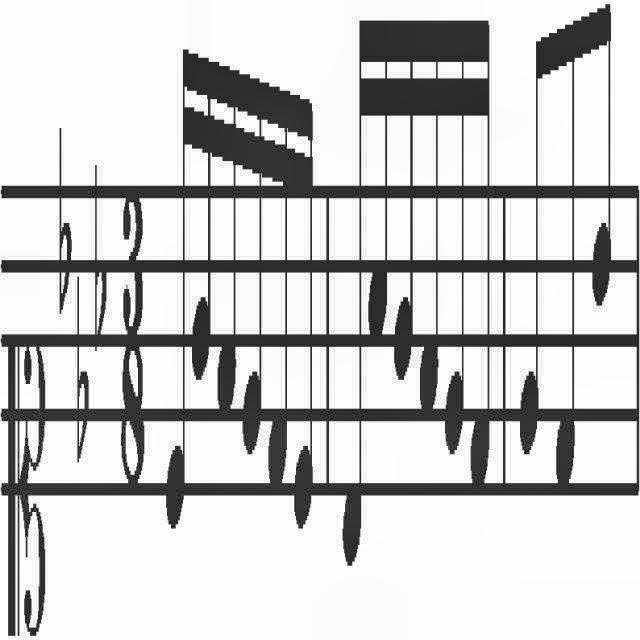Bemol: (88, 134, 112, 354), (51, 101, 74, 321), (72, 268, 91, 480)
Eighth-note: (550, 0, 582, 500), (514, 0, 542, 470), (586, 0, 618, 332)
Sixteenth-note: (147, 29, 191, 554), (338, 1, 366, 592), (291, 68, 317, 558), (470, 0, 494, 504), (263, 74, 289, 514), (442, 3, 466, 457), (214, 43, 240, 437), (240, 69, 264, 494), (190, 25, 216, 415), (419, 6, 441, 438), (391, 0, 415, 392), (367, 13, 389, 350)
